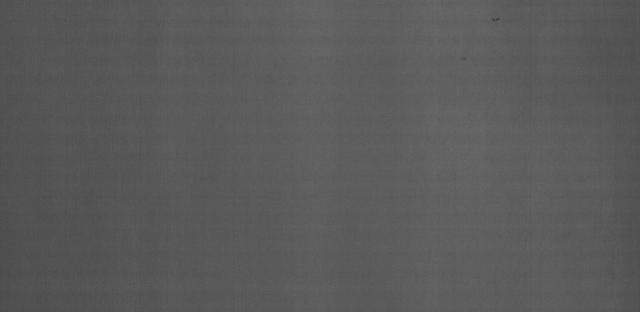inclusion: (445, 48, 477, 63), (482, 6, 508, 24)
